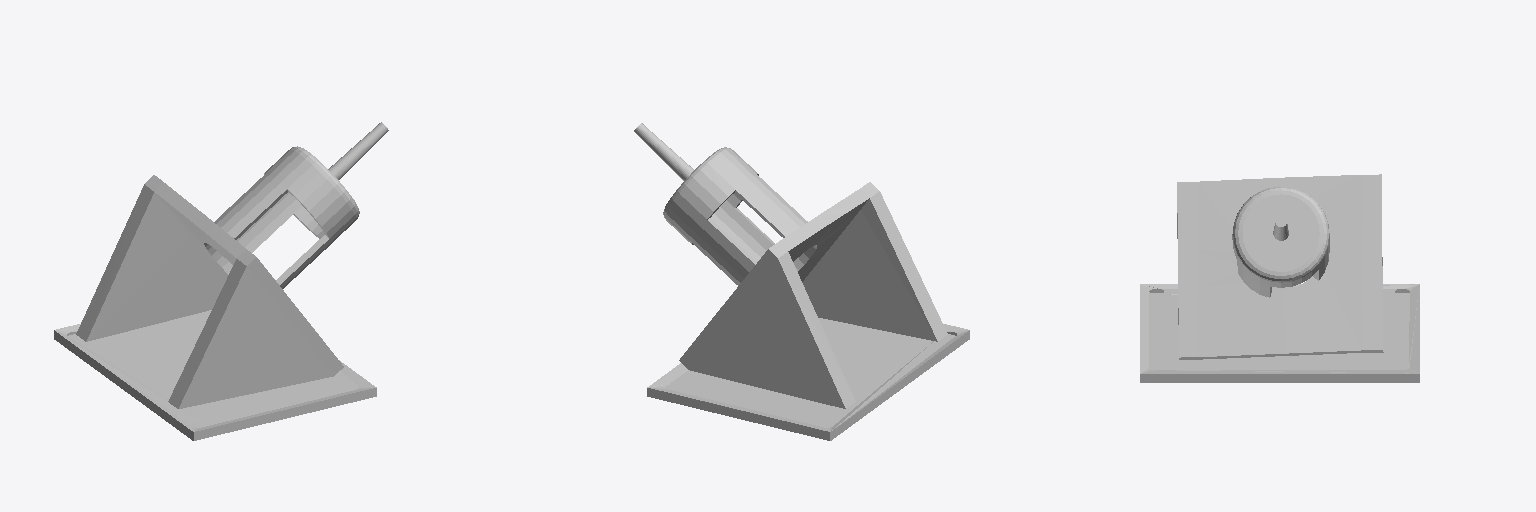
The model's file is GPSantenna.obj.
3 views of the same model, side by side, from view 1: azimuth 30°, elevation 25°; view 2: azimuth 150°, elevation 25°; view 3: azimuth 270°, elevation 25° (orthographic).
Parts seen in each view (by area): view 1: GPS; view 2: GPS; view 3: GPS.
Part boxes in pixels (bbox=[...]): GPS: bbox=[54, 122, 388, 440]; GPS: bbox=[634, 123, 969, 440]; GPS: bbox=[1140, 174, 1419, 382].
Bounding box in the file's own units: 14.39 × 10.59 × 13.15.